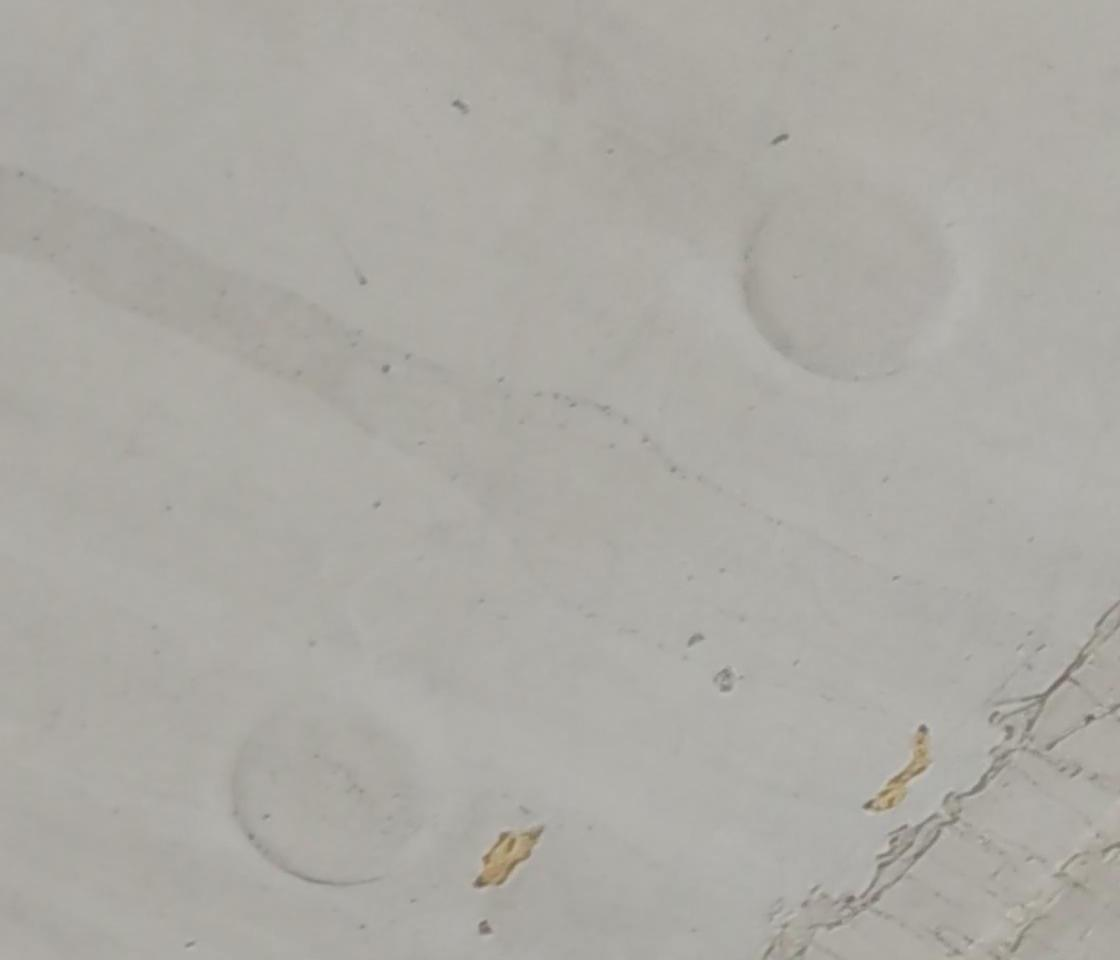paint_peel: (864, 716, 940, 826), (463, 818, 547, 897)
